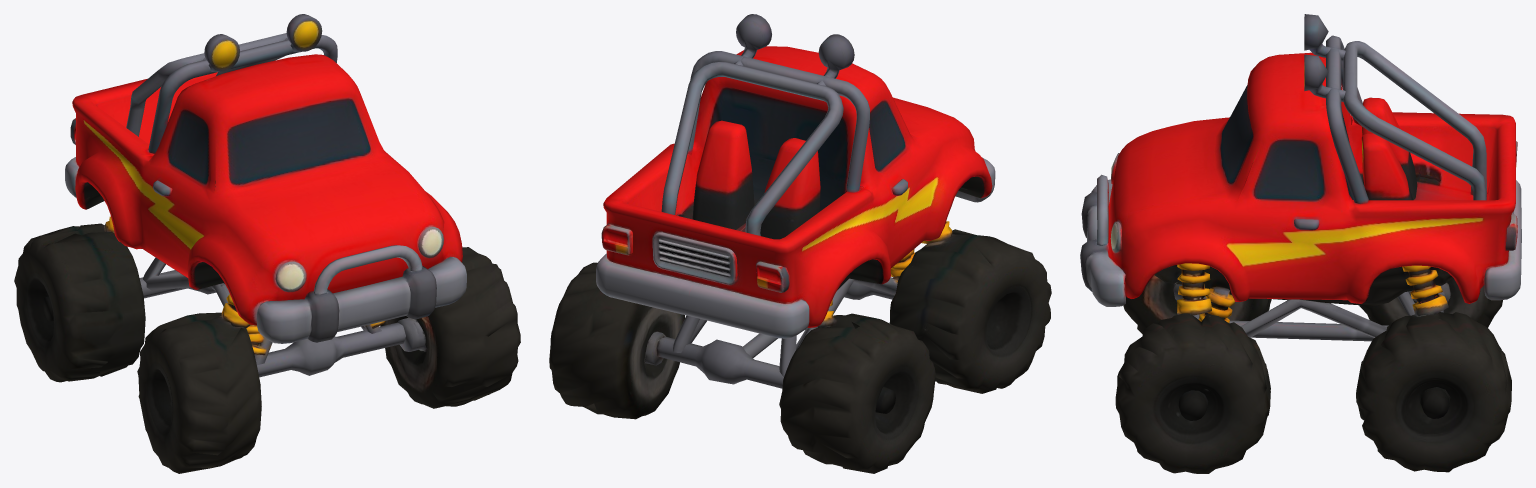
The model's file is car-firtina.glb.
3 renders of one model, left to right at view 1: azimuth 30°, elevation 25°; view 2: azimuth 150°, elevation 25°; view 3: azimuth 270°, elevation 25°, orthographic.
Visible parts, largest first — view 1: tripo_node_2981378e-f604-42a0-8220-fe967ac2c322; view 2: tripo_node_2981378e-f604-42a0-8220-fe967ac2c322; view 3: tripo_node_2981378e-f604-42a0-8220-fe967ac2c322.
Part boxes in pixels (left/top/right/bottom): tripo_node_2981378e-f604-42a0-8220-fe967ac2c322: left=14, top=14, right=520, bottom=473; tripo_node_2981378e-f604-42a0-8220-fe967ac2c322: left=549, top=14, right=1051, bottom=473; tripo_node_2981378e-f604-42a0-8220-fe967ac2c322: left=1080, top=14, right=1521, bottom=473.
Size of the model in its own units: 0.8911 by 0.9224 by 0.9995.
1 material, 1 textured.
